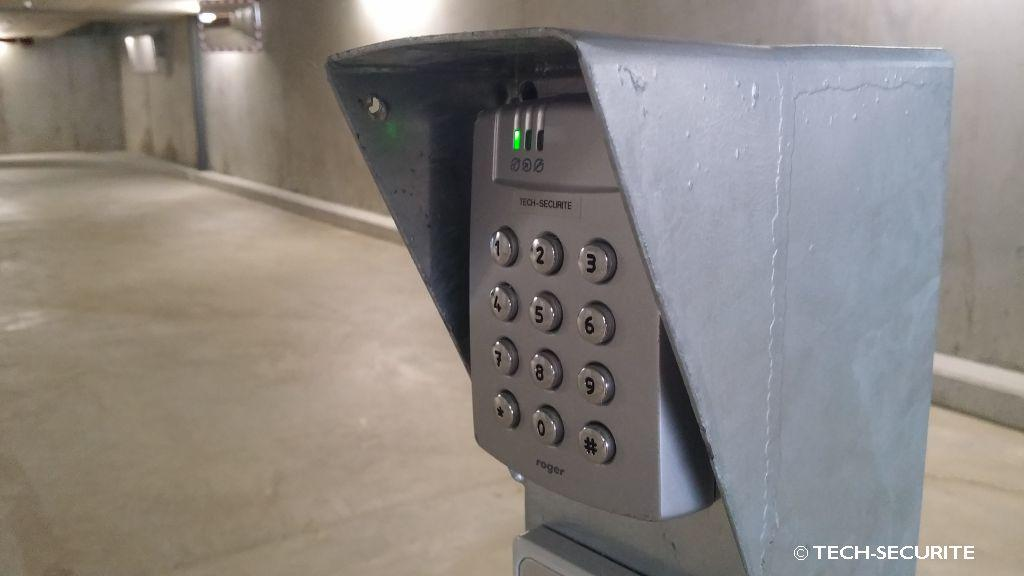digicode: (479, 217, 624, 471)
